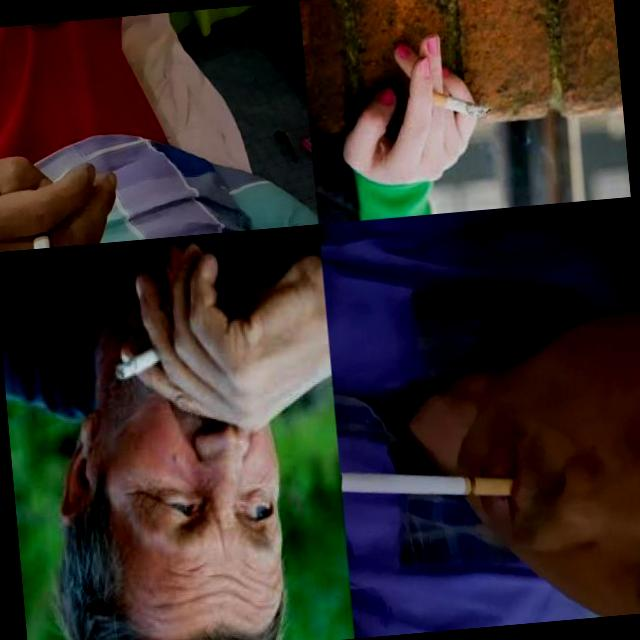cigarette: (340, 454, 515, 510), (110, 344, 170, 382), (428, 85, 490, 121), (28, 213, 50, 249)
